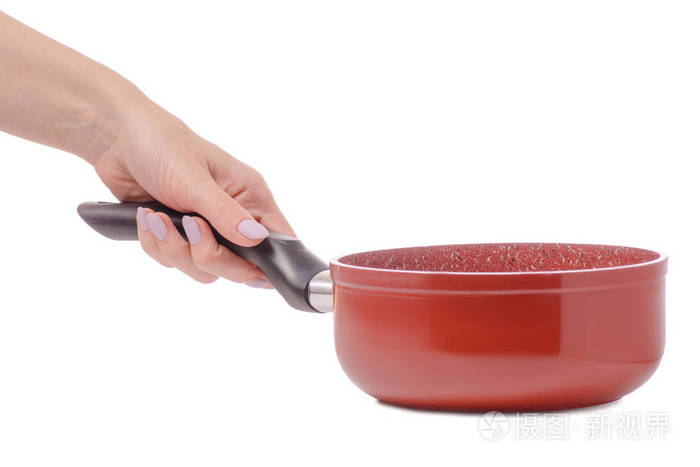no-phone: (73, 58, 326, 310)
